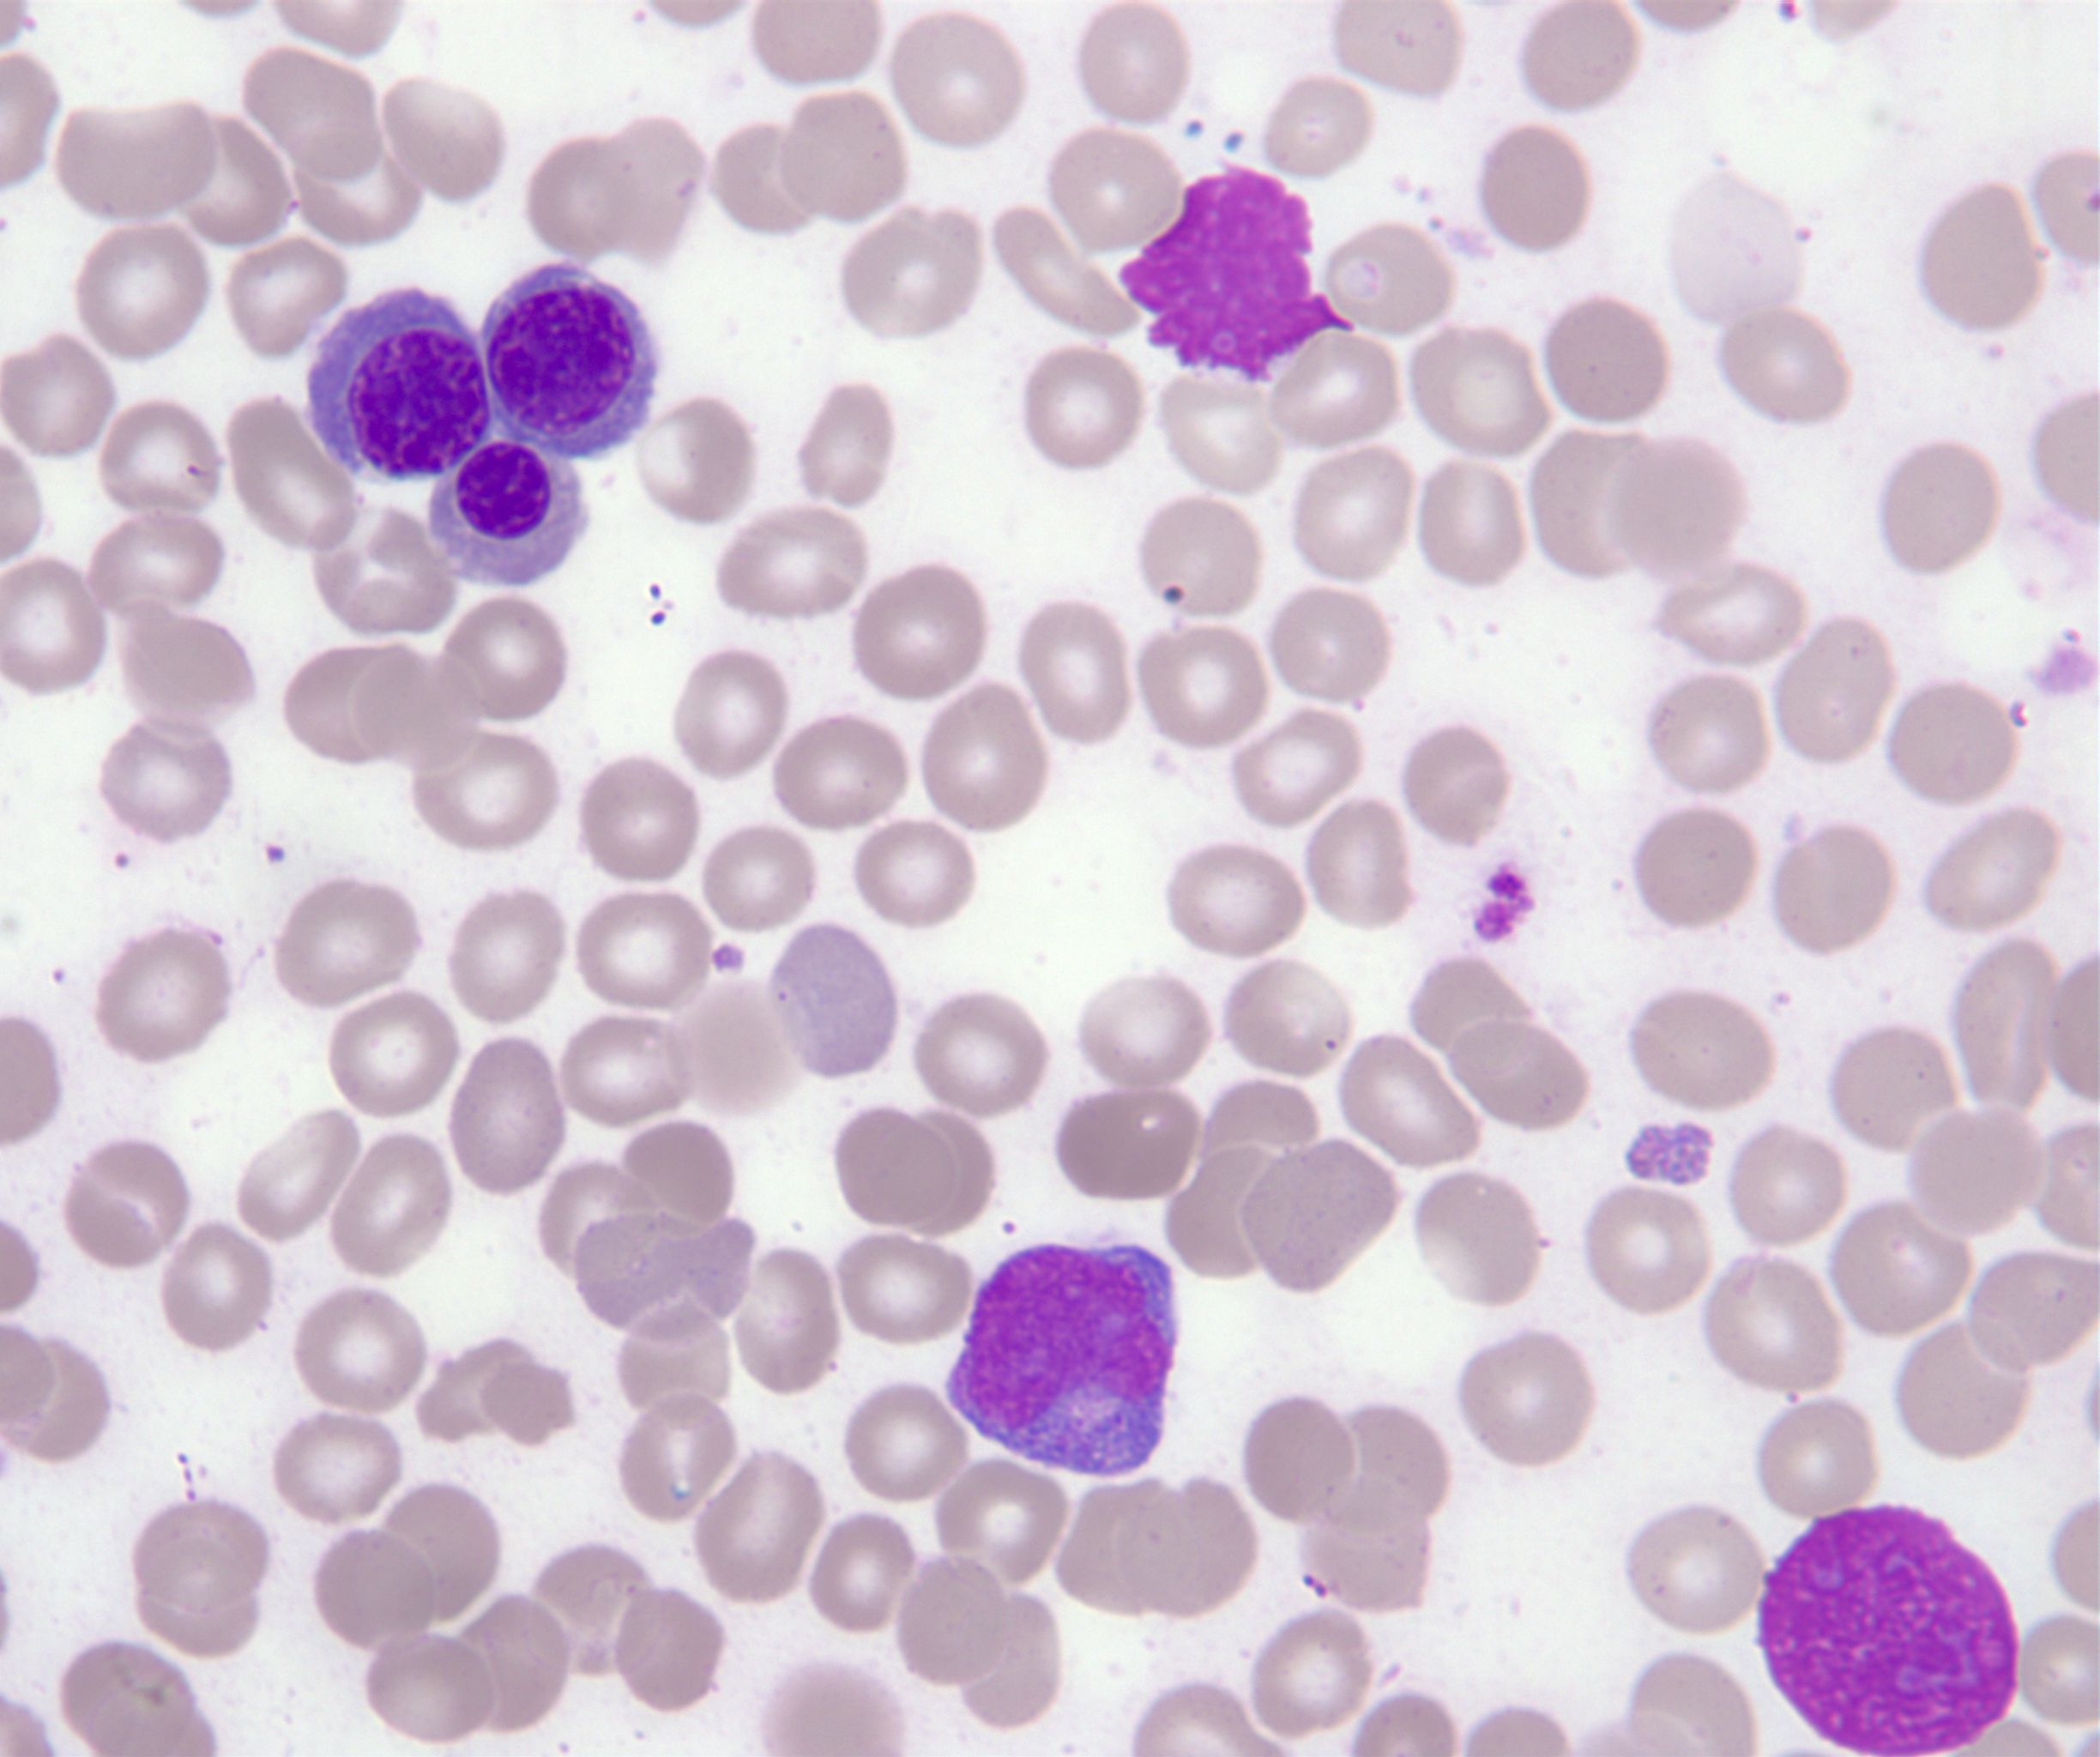2: (945, 1246, 1177, 1474)
23: (307, 286, 492, 475), (485, 265, 654, 457)
24: (427, 433, 586, 588)
x: (1760, 1509, 2018, 1757), (1120, 169, 1357, 387)
